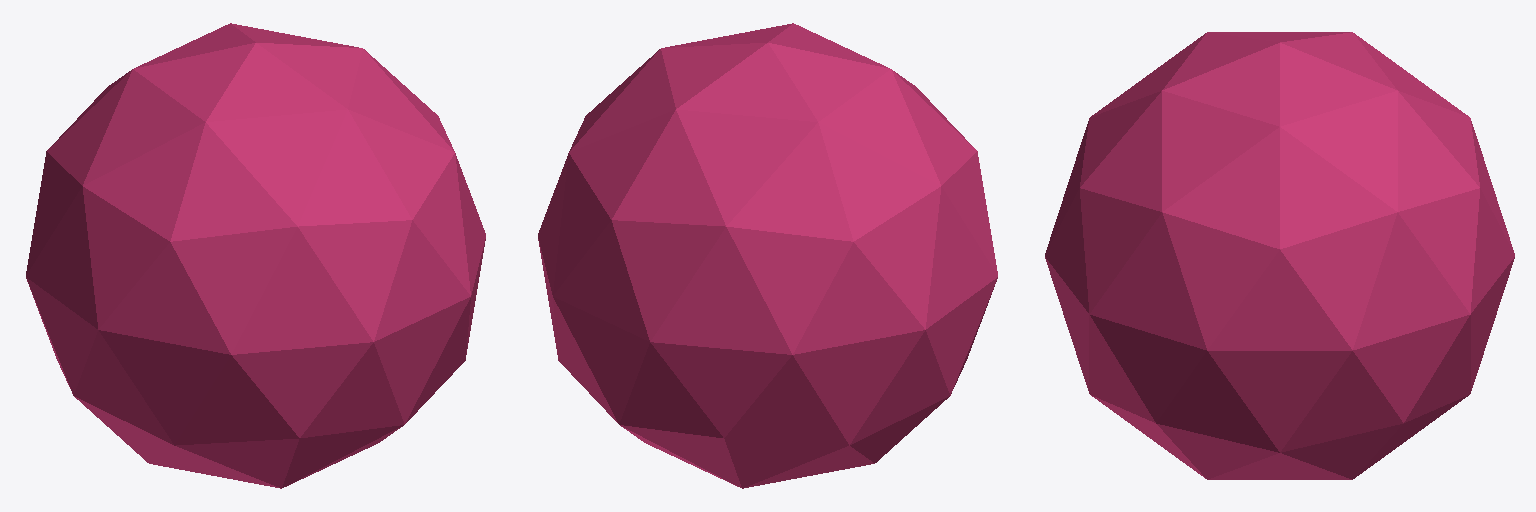
The model's file is wall_pass.obj.
3 renders of one model, left to right at view 1: azimuth 30°, elevation 25°; view 2: azimuth 150°, elevation 25°; view 3: azimuth 270°, elevation 25°, orthographic.
Parts seen in each view (by area): view 1: Icosphere; view 2: Icosphere; view 3: Icosphere.
Part boxes in pixels (left/top/right/bottom): Icosphere: left=26, top=23, right=485, bottom=488; Icosphere: left=538, top=23, right=997, bottom=488; Icosphere: left=1045, top=32, right=1514, bottom=479.
Size of the model in its own units: 2.29 by 2.41 by 2.41.